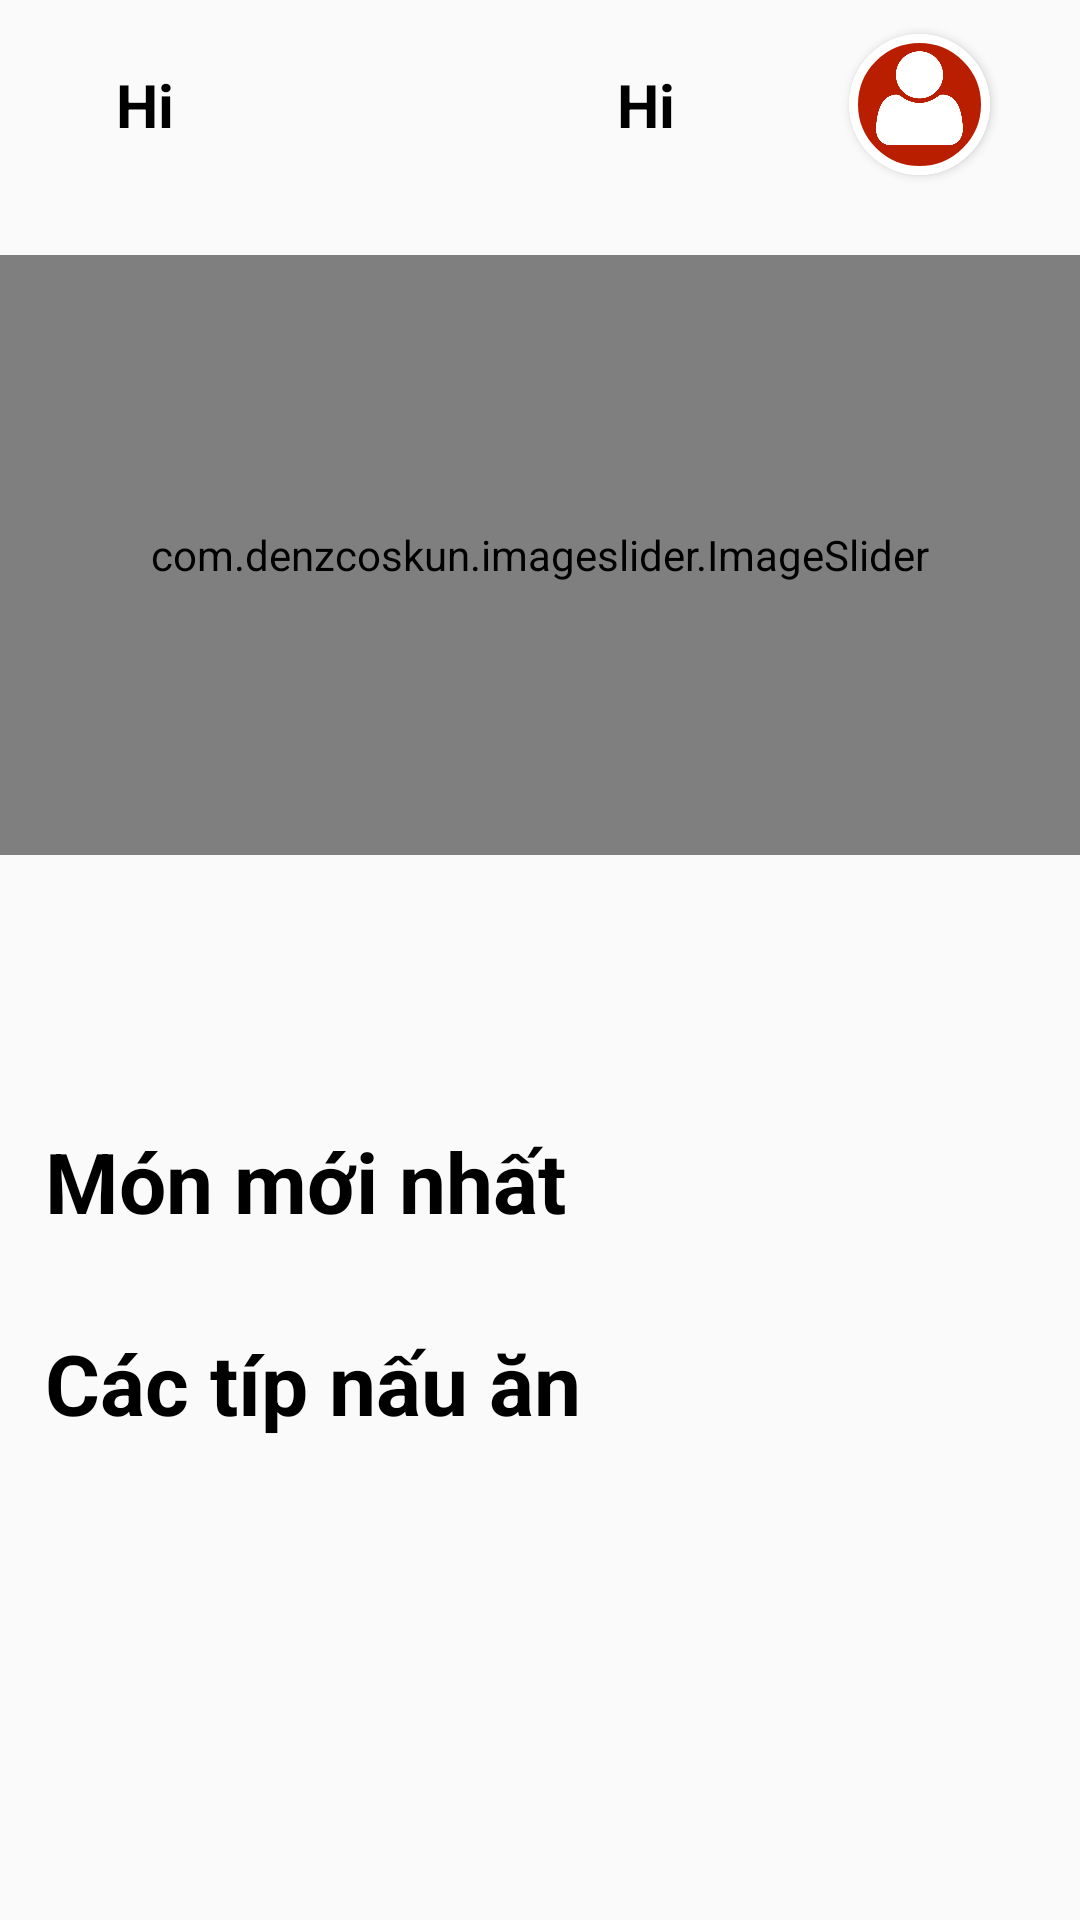

Locate icon controls on the screen. Image size 1080×1920, boxes as (x1, y1, x2, y2).
imguser: (858, 43, 990, 166)
